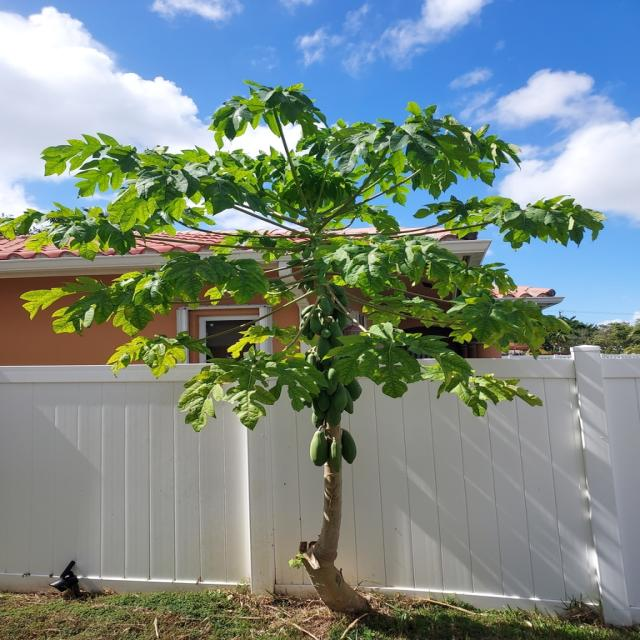Papaya-Tree: (34, 70, 602, 594)
